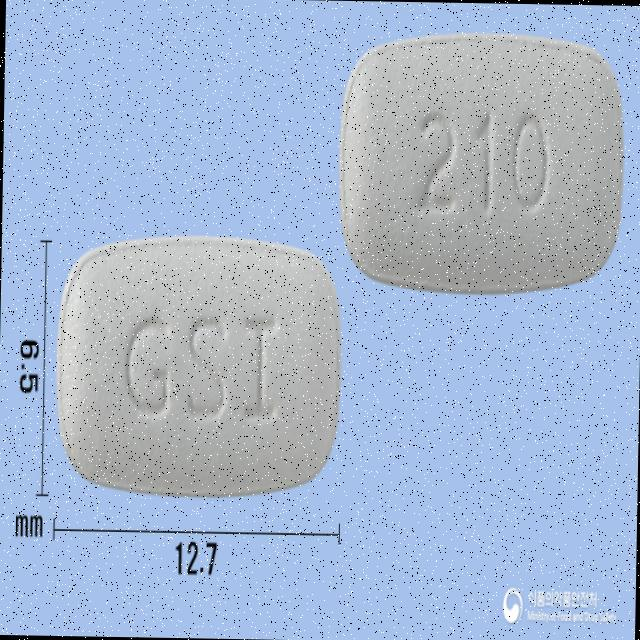Descovy -25mg: (52, 230, 344, 500), (336, 29, 626, 300)
